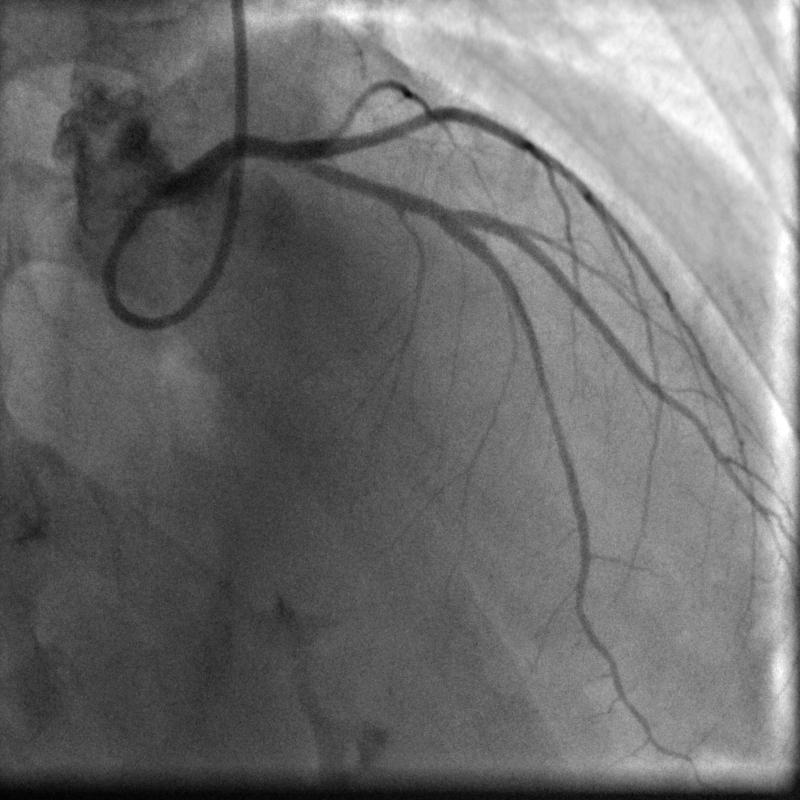Stenosis: (426, 194, 456, 235)
